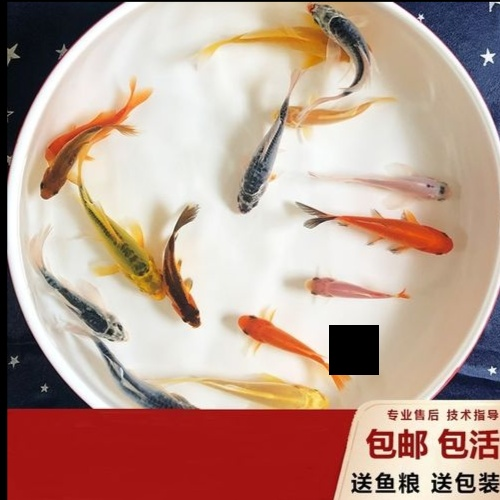fry: (86, 195, 165, 308), (53, 77, 161, 156), (323, 202, 462, 263), (38, 260, 126, 345), (238, 307, 335, 382), (305, 3, 379, 90), (214, 21, 334, 72), (165, 208, 213, 333), (341, 154, 465, 202), (103, 355, 202, 412), (293, 268, 419, 309), (216, 368, 334, 410), (233, 116, 279, 216), (274, 99, 388, 136), (41, 156, 77, 210)
